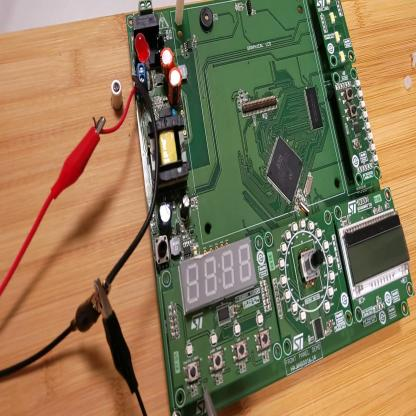low voltage board: (94, 2, 414, 415)
working area: (2, 3, 416, 414)
